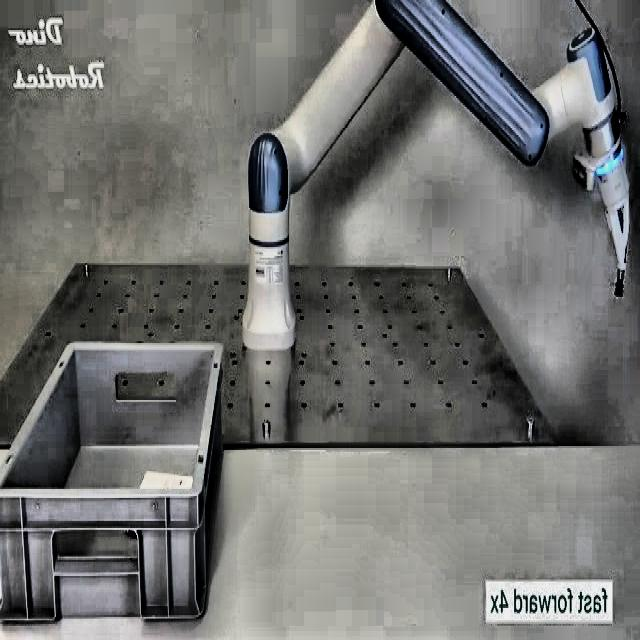robot: (241, 0, 631, 350)
